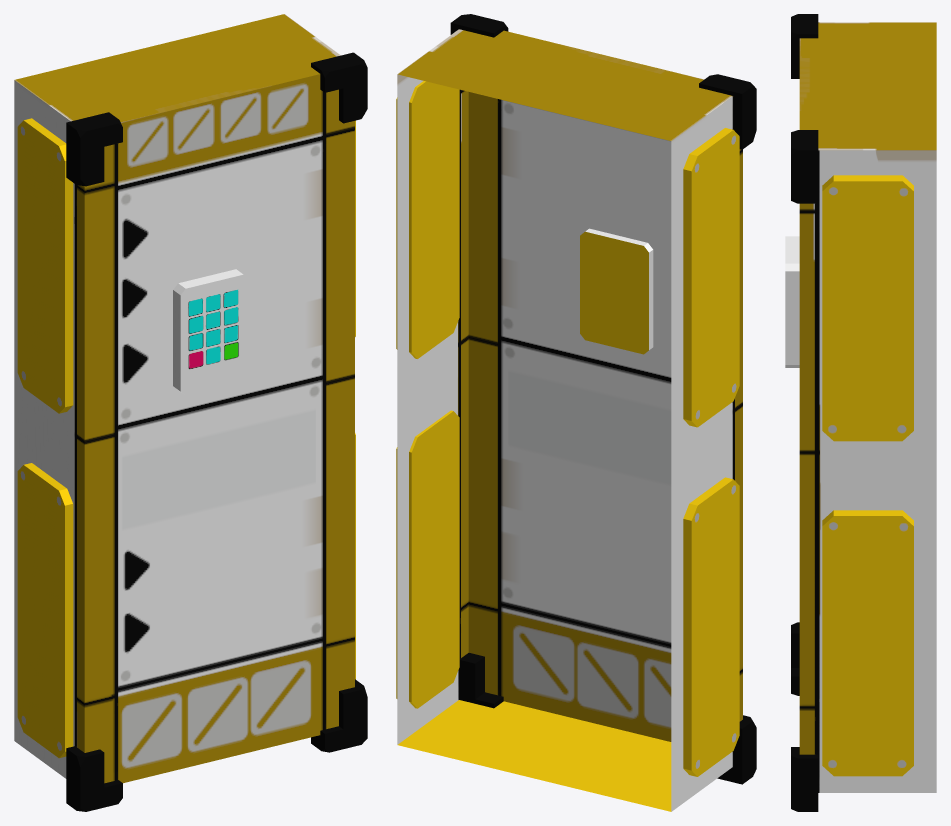
Rendered from Weponbox.fbx.
3 views of the same model, side by side, from view 1: azimuth 30°, elevation 25°; view 2: azimuth 150°, elevation 25°; view 3: azimuth 270°, elevation 25° (orthographic). The views are drawn at different scales.
Parts seen in each view (by area): view 1: Weponbox2; view 2: Weponbox2; view 3: Weponbox2.
Part boxes in pixels (<box>): Weponbox2: <box>14,14,367,811</box>; Weponbox2: <box>396,14,756,811</box>; Weponbox2: <box>785,14,936,811</box>.
Bounding box in the file's own units: 9.84 × 21.94 × 4.55.
Materials: 1 (1 with a texture image).
